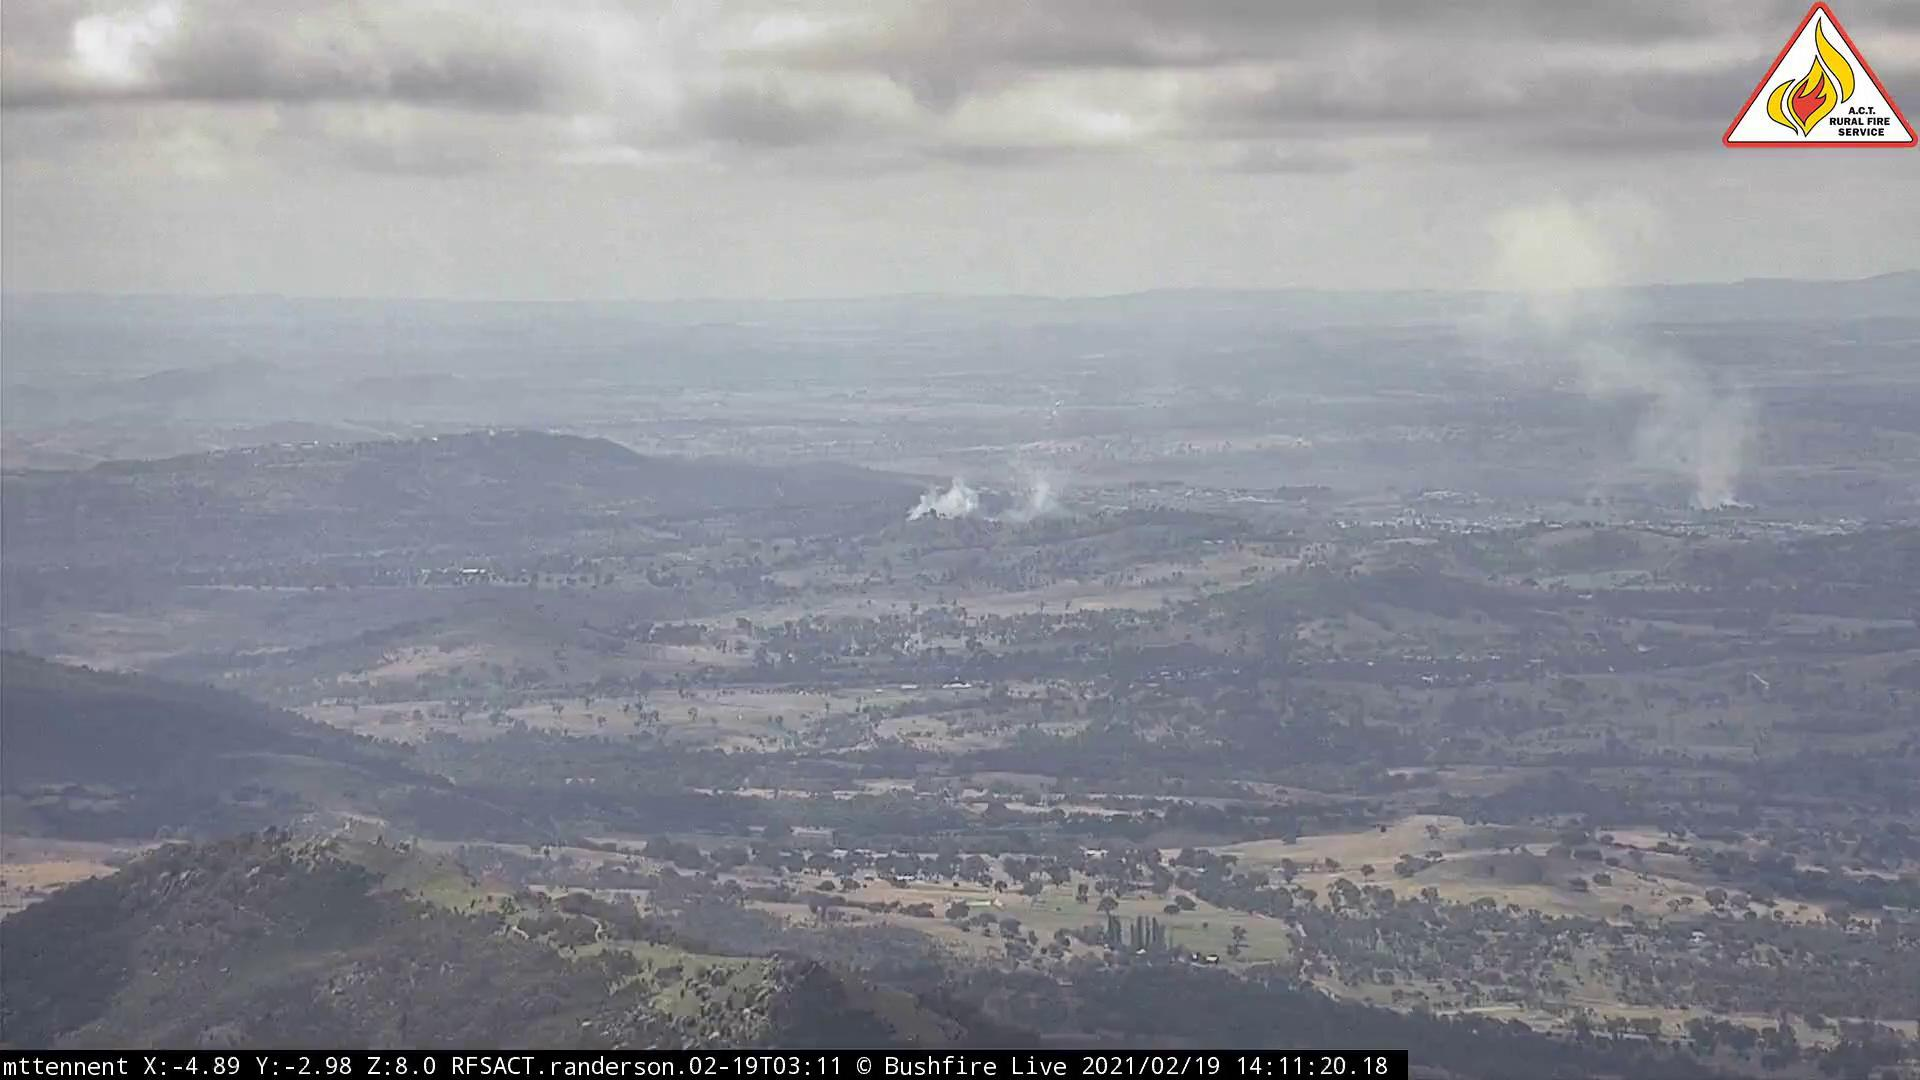Smoke: (1460, 191, 1756, 512), (910, 460, 1065, 527)
